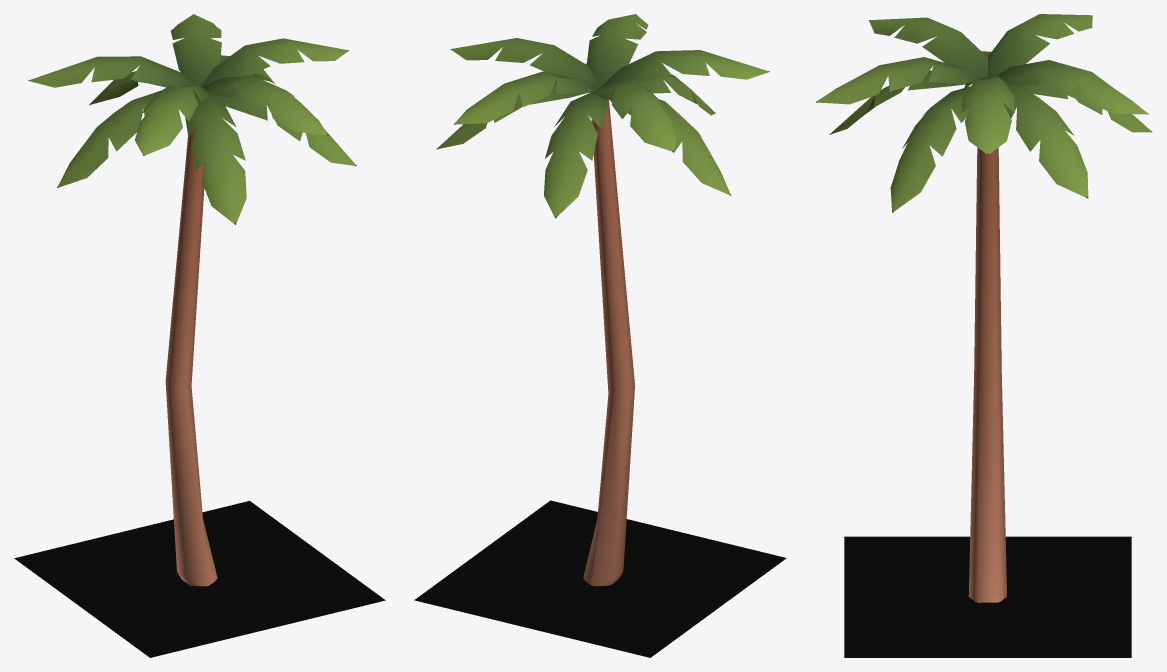
File: palm_1.fbx
The picture shows the model from 3 angles, left to right: view 1: azimuth 30°, elevation 25°; view 2: azimuth 150°, elevation 25°; view 3: azimuth 270°, elevation 25°; orthographic projection. The views are drawn at different scales.
Parts seen in each view (by area): view 1: palm_1, palm_shadow.002; view 2: palm_1, palm_shadow.002; view 3: palm_1, palm_shadow.002.
Part boxes in pixels (x1,y1,x2,y2): palm_1: [28, 14, 356, 586]; palm_shadow.002: [14, 501, 385, 657]; palm_1: [436, 14, 769, 586]; palm_shadow.002: [414, 500, 786, 657]; palm_1: [816, 14, 1152, 602]; palm_shadow.002: [844, 536, 1131, 657].
Bounding box in the file's own units: 365 × 634 × 353.
